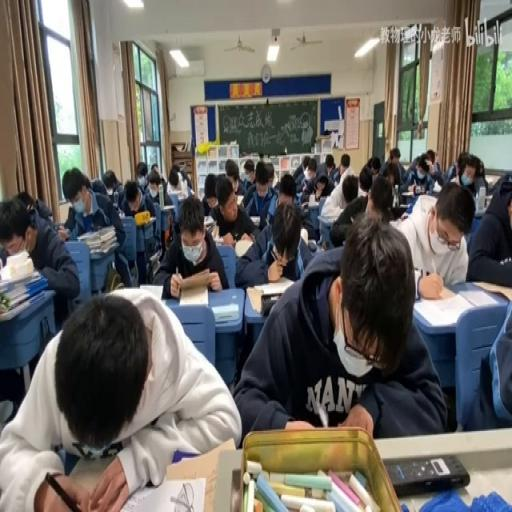calculator: (116, 475, 205, 512), (64, 450, 126, 500), (411, 288, 472, 328), (244, 279, 294, 313), (0, 249, 32, 280), (178, 282, 208, 304), (212, 300, 238, 322), (130, 282, 165, 298), (233, 236, 254, 258), (322, 205, 342, 222), (202, 216, 216, 235), (394, 200, 409, 214), (149, 248, 160, 264), (486, 175, 499, 188), (58, 226, 70, 238), (307, 239, 318, 252), (249, 215, 261, 226), (300, 224, 307, 242), (484, 194, 493, 208), (235, 194, 245, 206), (402, 186, 416, 194), (308, 194, 317, 206), (430, 185, 442, 193), (176, 191, 187, 199), (160, 204, 174, 210), (301, 201, 308, 209)
paper: (5, 287, 239, 511), (235, 214, 441, 440), (1, 192, 80, 356), (392, 178, 470, 288), (64, 166, 129, 289), (461, 279, 510, 431), (466, 172, 512, 292), (208, 174, 258, 253), (326, 170, 372, 244), (146, 166, 175, 250), (444, 151, 485, 193), (401, 151, 436, 193), (367, 174, 394, 218), (380, 150, 406, 184), (292, 155, 314, 193), (277, 172, 297, 205), (330, 152, 349, 185), (14, 188, 37, 214), (32, 195, 52, 220), (134, 159, 149, 192), (224, 161, 238, 189), (240, 158, 254, 183), (358, 169, 371, 195), (102, 170, 116, 194), (179, 164, 192, 188), (431, 161, 443, 182), (124, 192, 138, 210), (264, 160, 274, 184), (370, 155, 380, 176), (475, 158, 485, 178), (170, 170, 180, 188), (314, 181, 325, 196), (324, 158, 334, 173), (425, 148, 434, 163), (308, 165, 316, 179), (150, 162, 158, 175)
person: (386, 452, 470, 496), (320, 239, 326, 250)
